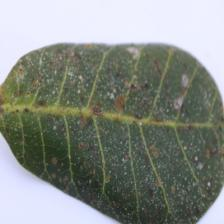red rust: (0, 43, 223, 223)
